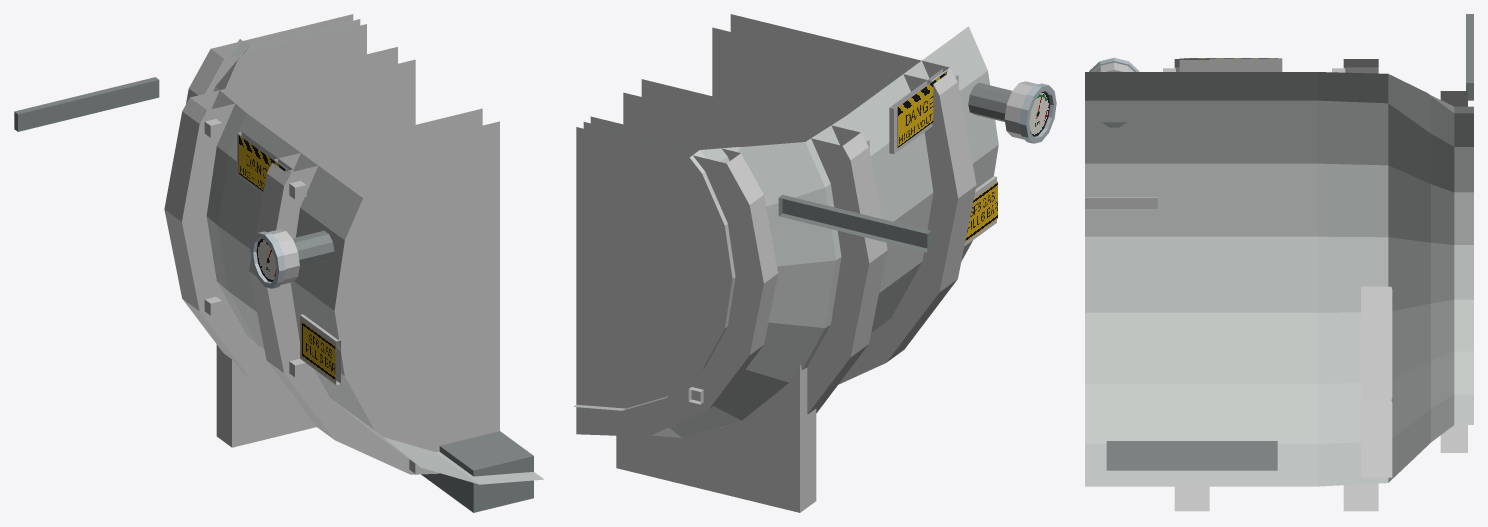
File: cell_30.obj
The picture shows the model from 3 angles, left to right: view 1: azimuth 30°, elevation 25°; view 2: azimuth 150°, elevation 25°; view 3: azimuth 270°, elevation 25°; orthographic projection. The views are drawn at different scales.
Bounding box in the file's own units: 1 × 1 × 1.
